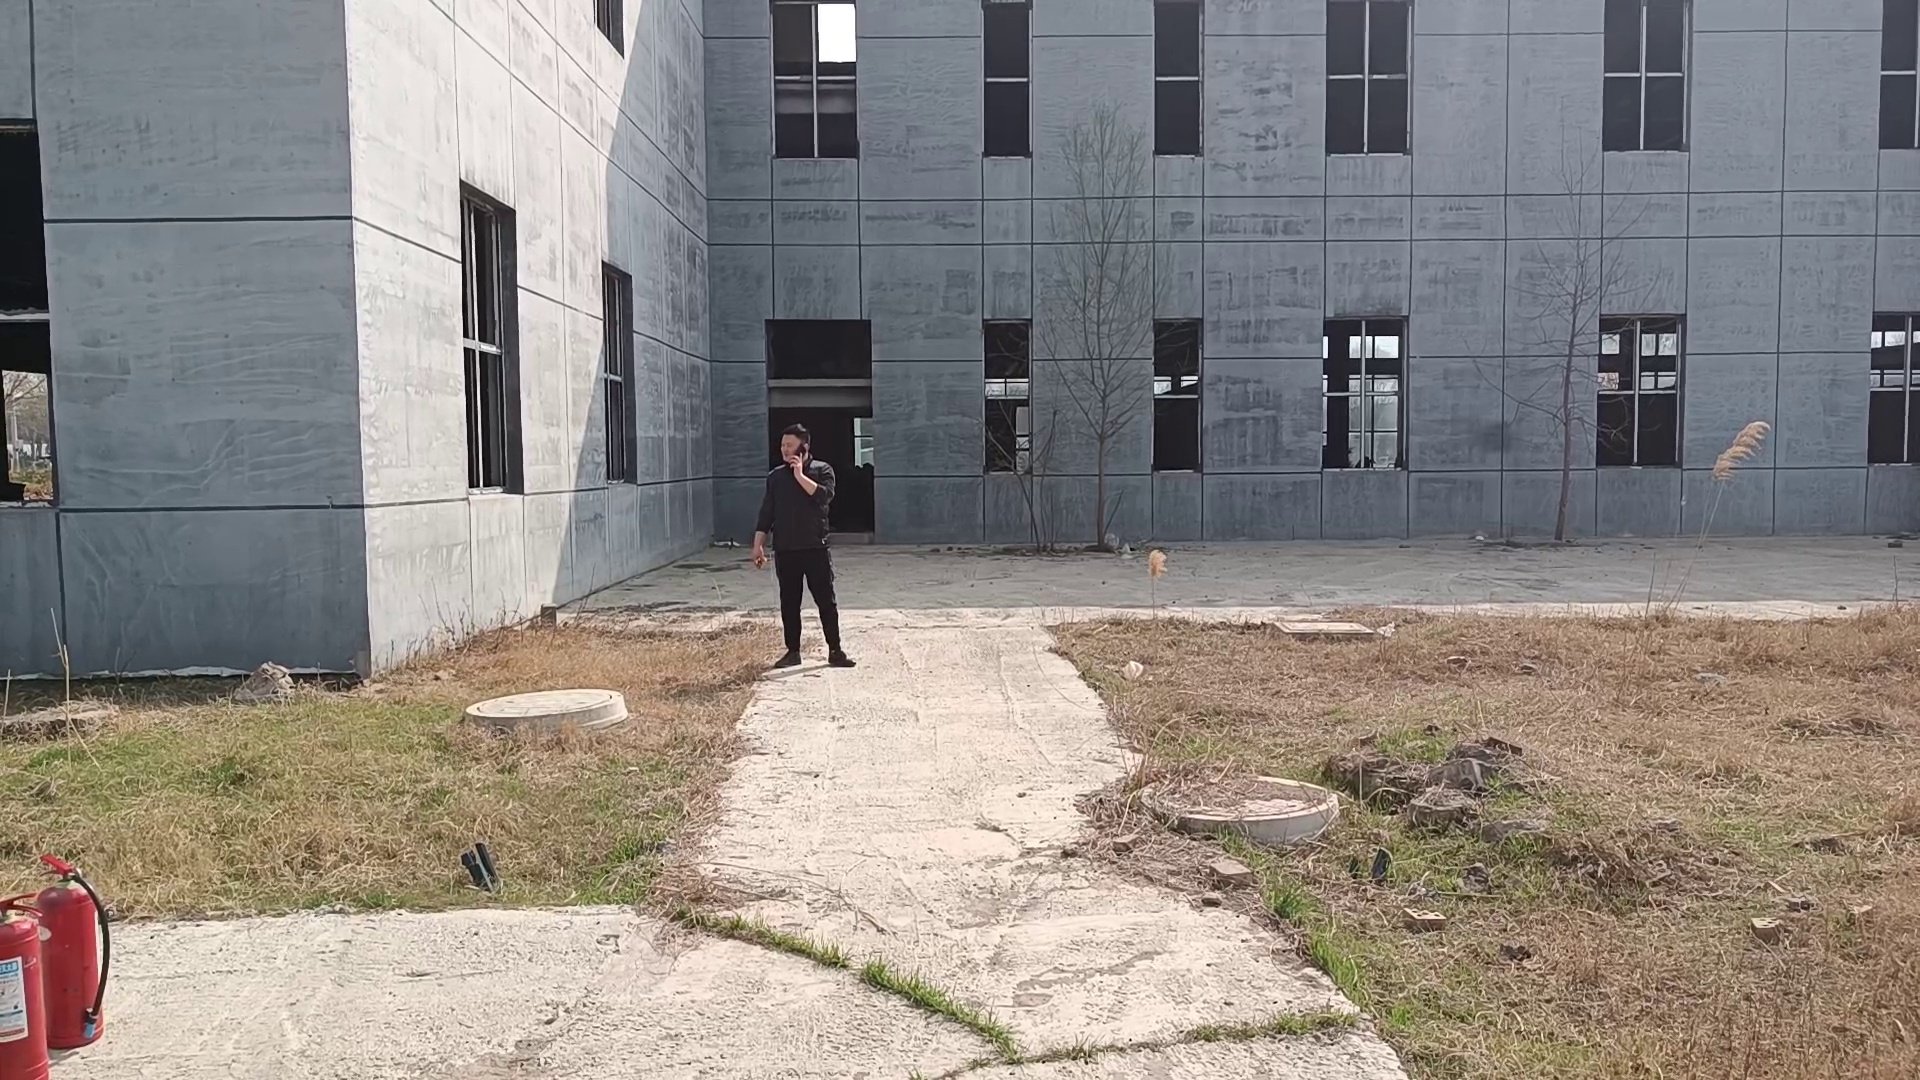phone: (775, 423, 819, 473)
